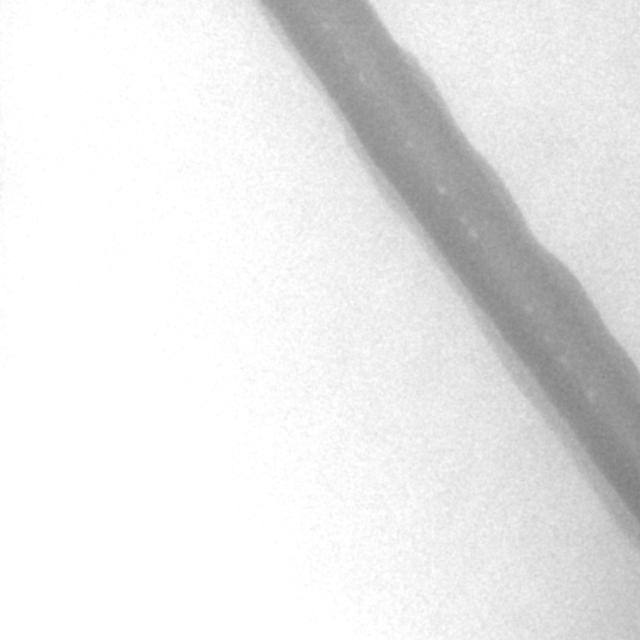air hole: (583, 388, 595, 403), (436, 184, 447, 198), (523, 300, 534, 313), (320, 20, 331, 32)
